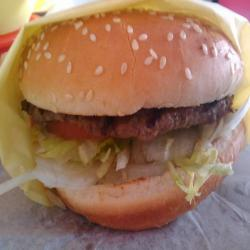burger: (14, 9, 240, 233)
